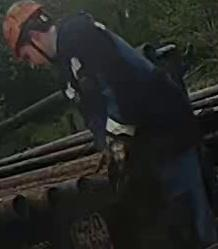gloves: (95, 123, 135, 193)
helmet: (0, 0, 45, 63)
vest: (54, 11, 194, 156)
